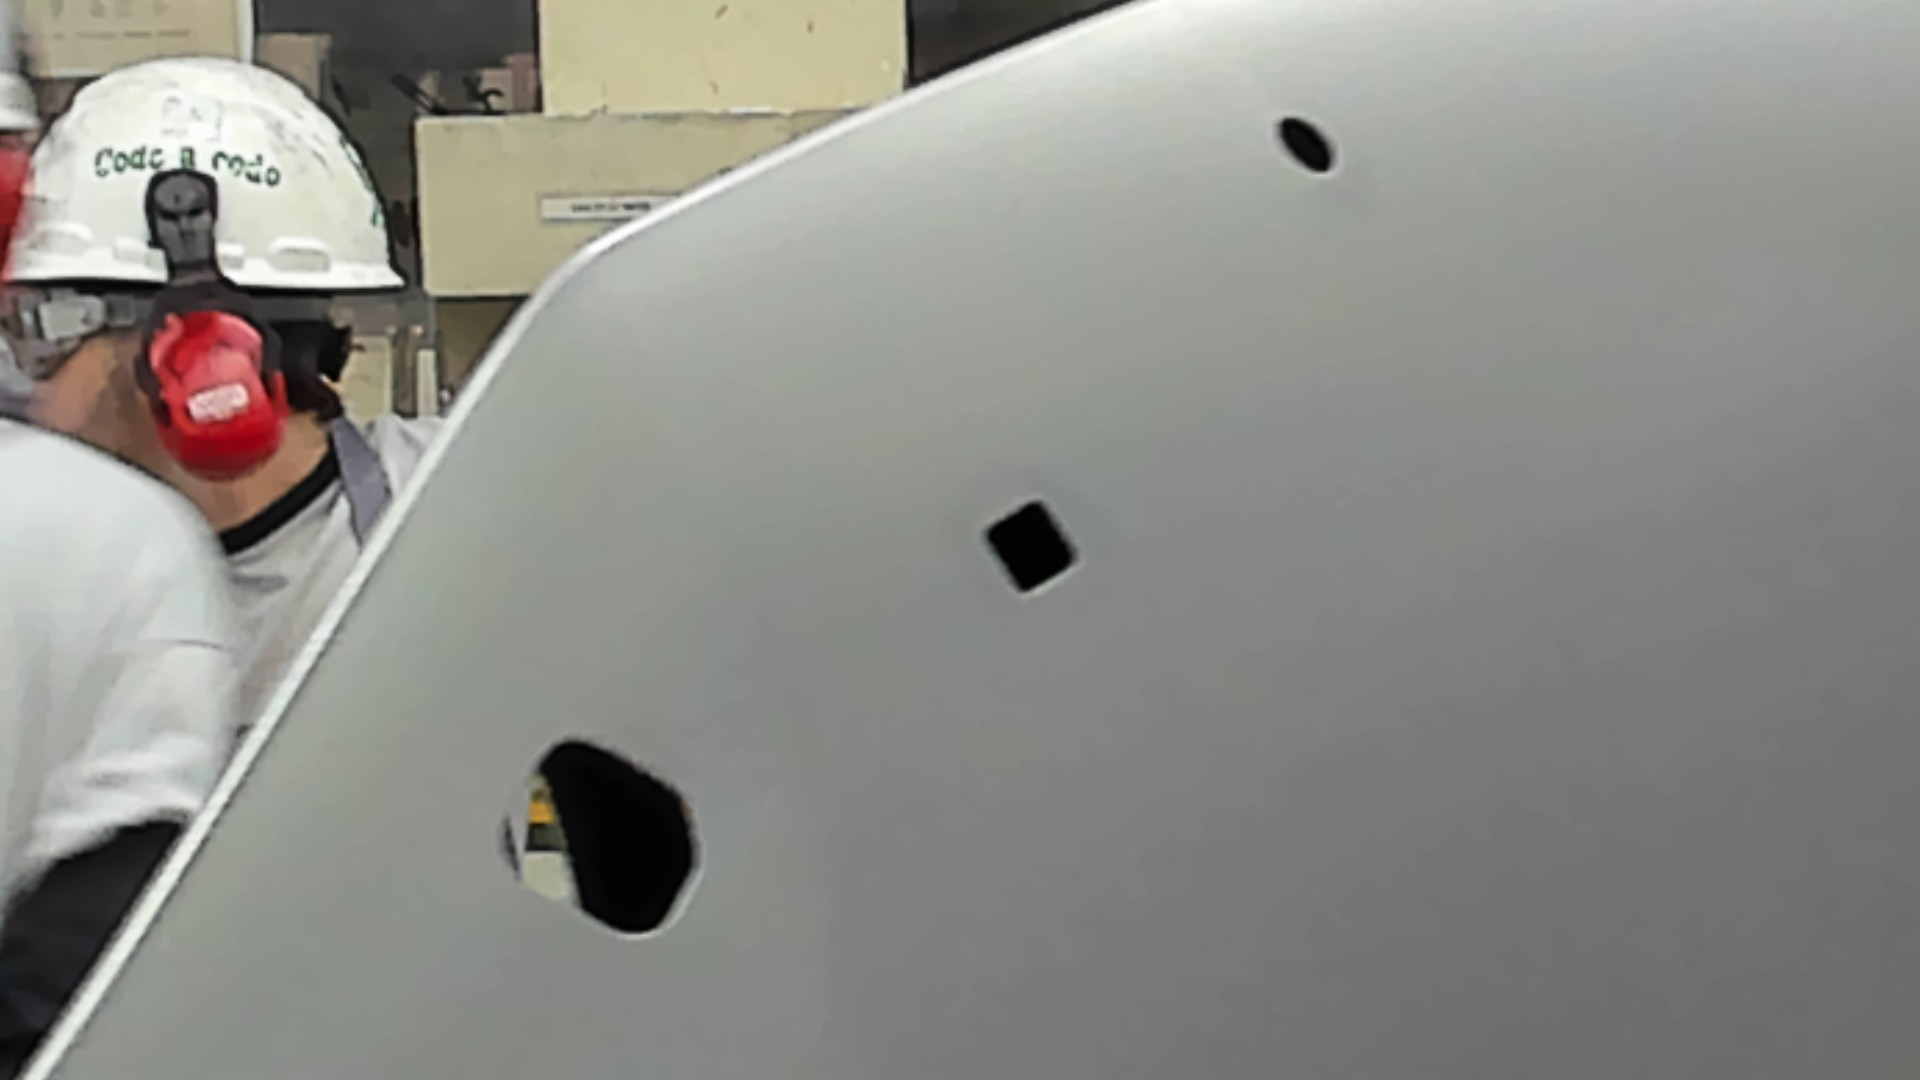chico: (1274, 111, 1338, 175)
grande: (495, 736, 705, 942)
mediano: (981, 495, 1077, 597)
